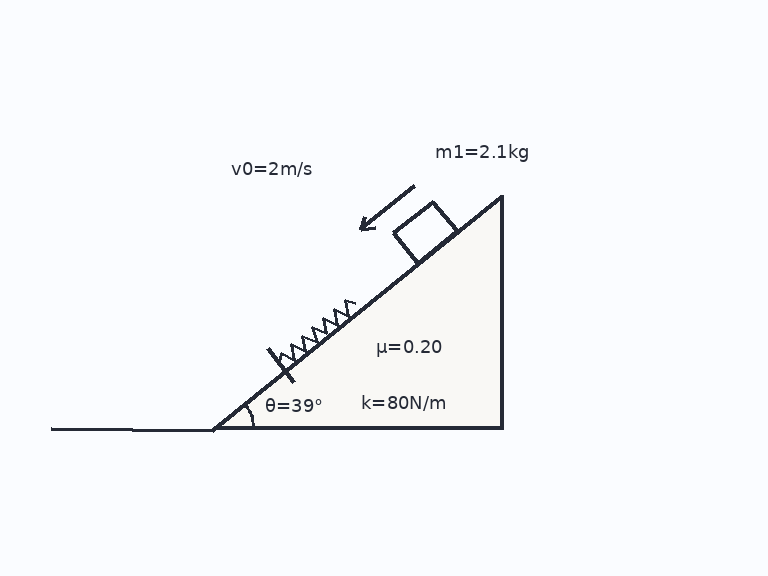block: (391, 200, 459, 265)
ramp: (211, 193, 503, 430)
spring: (277, 299, 356, 365)
